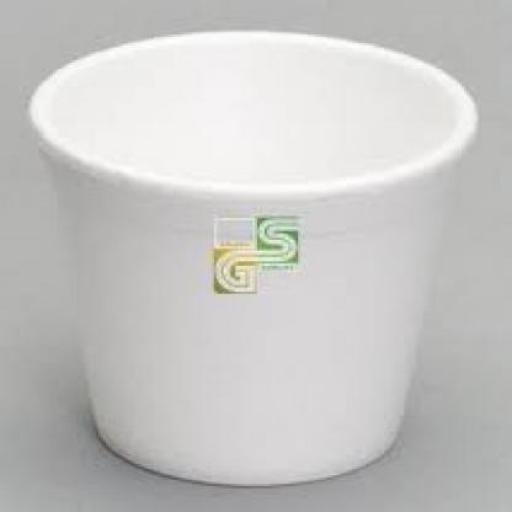paper: (26, 28, 474, 489)
